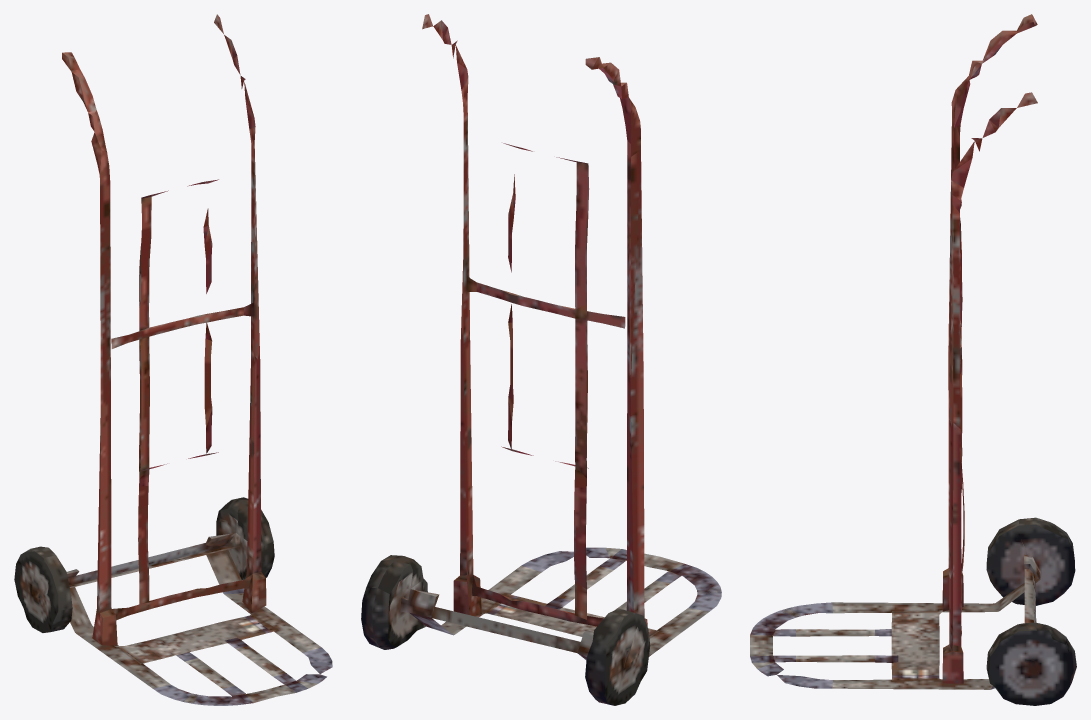
The model's file is hand_truck.glb.
3 renders of one model, left to right at view 1: azimuth 30°, elevation 25°; view 2: azimuth 150°, elevation 25°; view 3: azimuth 270°, elevation 25°, orthographic. The views are drawn at different scales.
Parts seen in each view (by area): view 1: mesh; view 2: mesh; view 3: mesh.
Part boxes in pixels (box(x1,y1,x2,y2)): mesh: box(14, 14, 332, 705); mesh: box(361, 14, 721, 705); mesh: box(750, 14, 1076, 705).
Size of the model in its own units: 0.5692 by 1.4 by 0.6937.
1 material, 1 textured.
